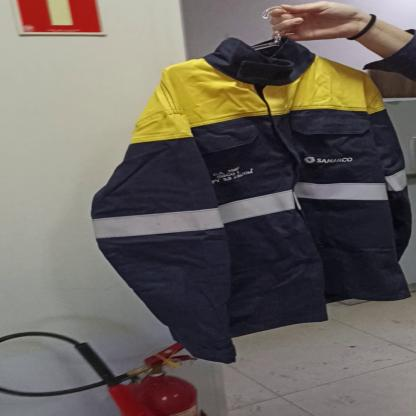C_eletrica: (91, 46, 416, 351)
